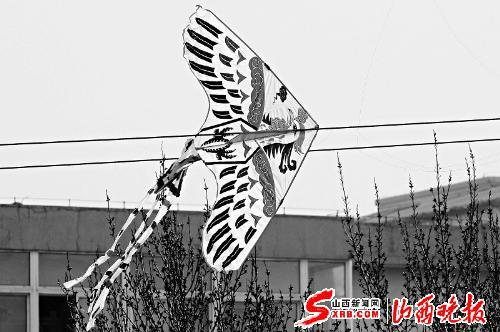kite: (59, 2, 324, 332)
